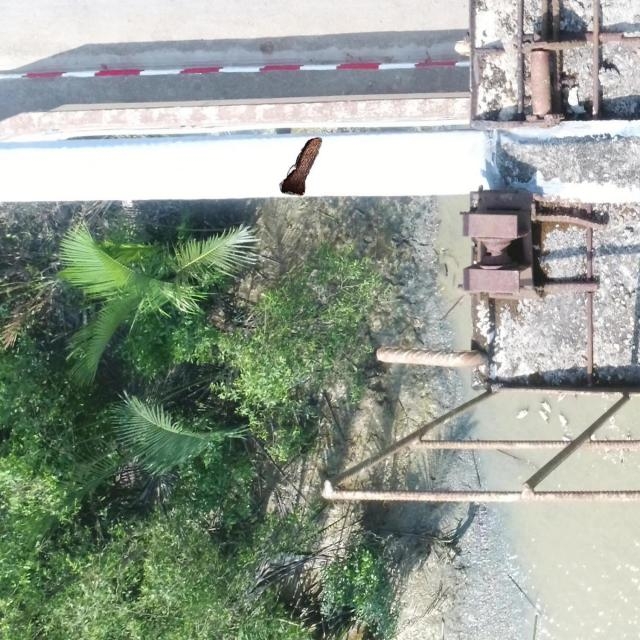corrosion: (278, 138, 324, 196)
